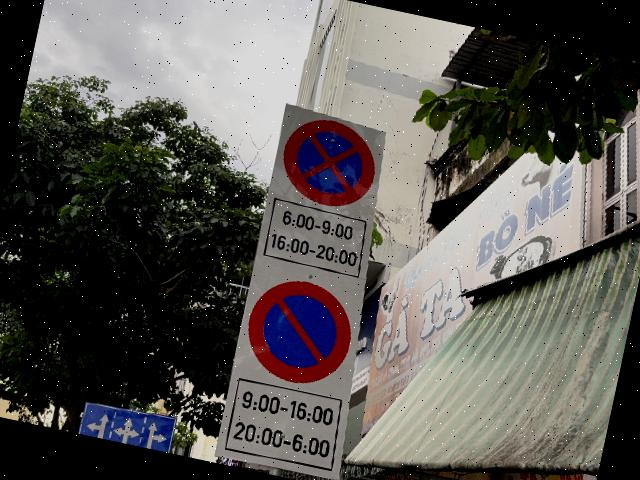cam-do-xe: (239, 273, 360, 392)
cam-dung-va-do-xe: (274, 112, 384, 214)
